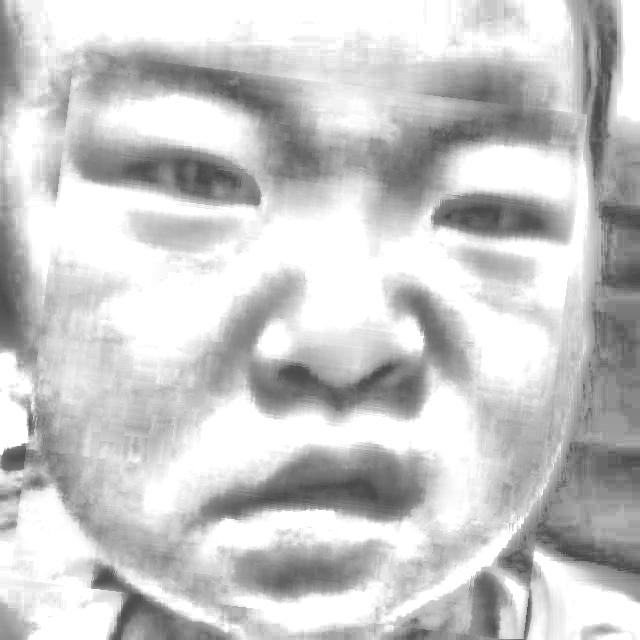angry: (25, 66, 572, 627)
